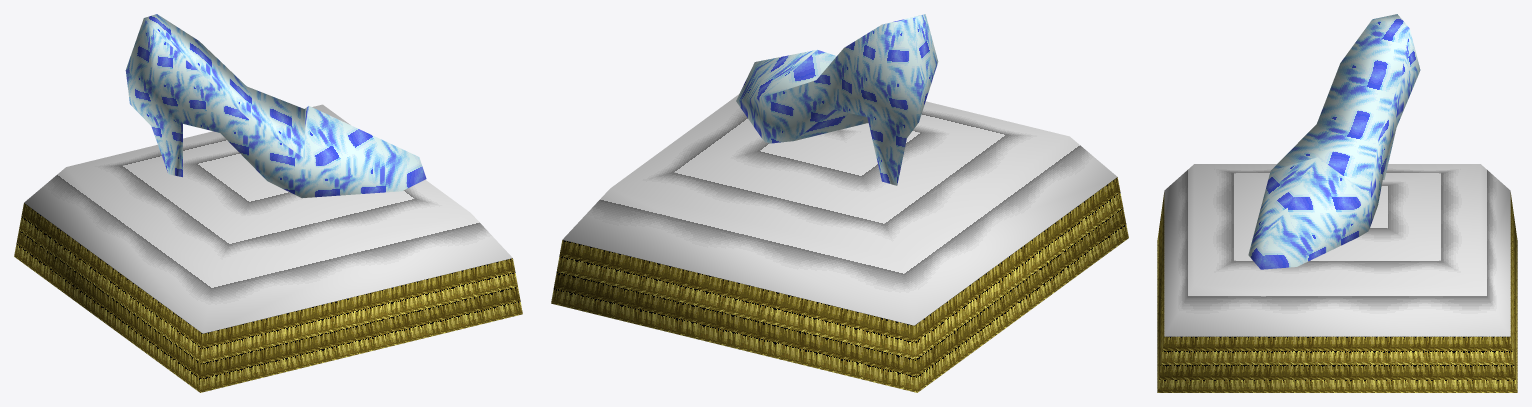
Rendered from 3448IMSY01_10.gltf.
The picture shows the model from 3 angles, left to right: view 1: azimuth 30°, elevation 25°; view 2: azimuth 150°, elevation 25°; view 3: azimuth 270°, elevation 25°; orthographic projection. The views are drawn at different scales.
Parts seen in each view (by area): view 1: 3448IMSY01_10; view 2: 3448IMSY01_10; view 3: 3448IMSY01_10.
Boxes of the visible parts, bbox=[...] form: 3448IMSY01_10: bbox=[14, 14, 522, 392]; 3448IMSY01_10: bbox=[551, 14, 1128, 392]; 3448IMSY01_10: bbox=[1157, 14, 1517, 392].
Size of the model in its own units: 0.7998 by 0.6338 by 0.7998.
Materials: 3 (3 with a texture image).
